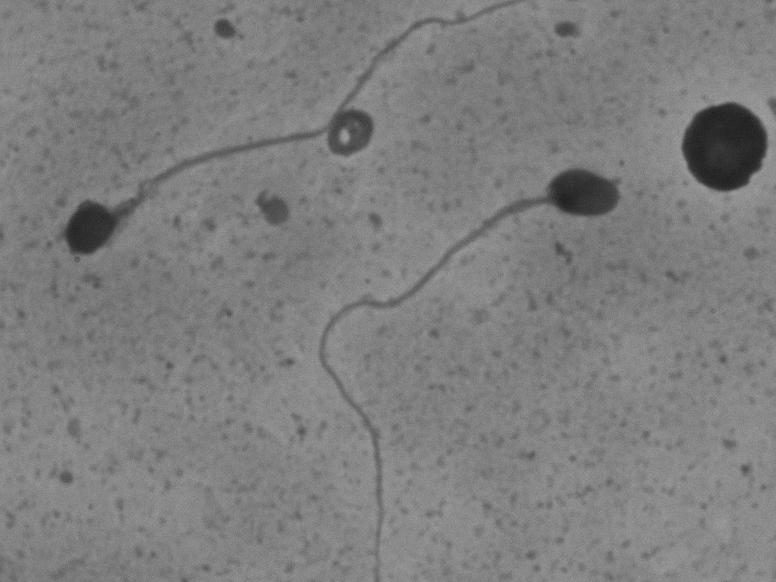Abnormal: (277, 153, 682, 422), (44, 59, 339, 299)
